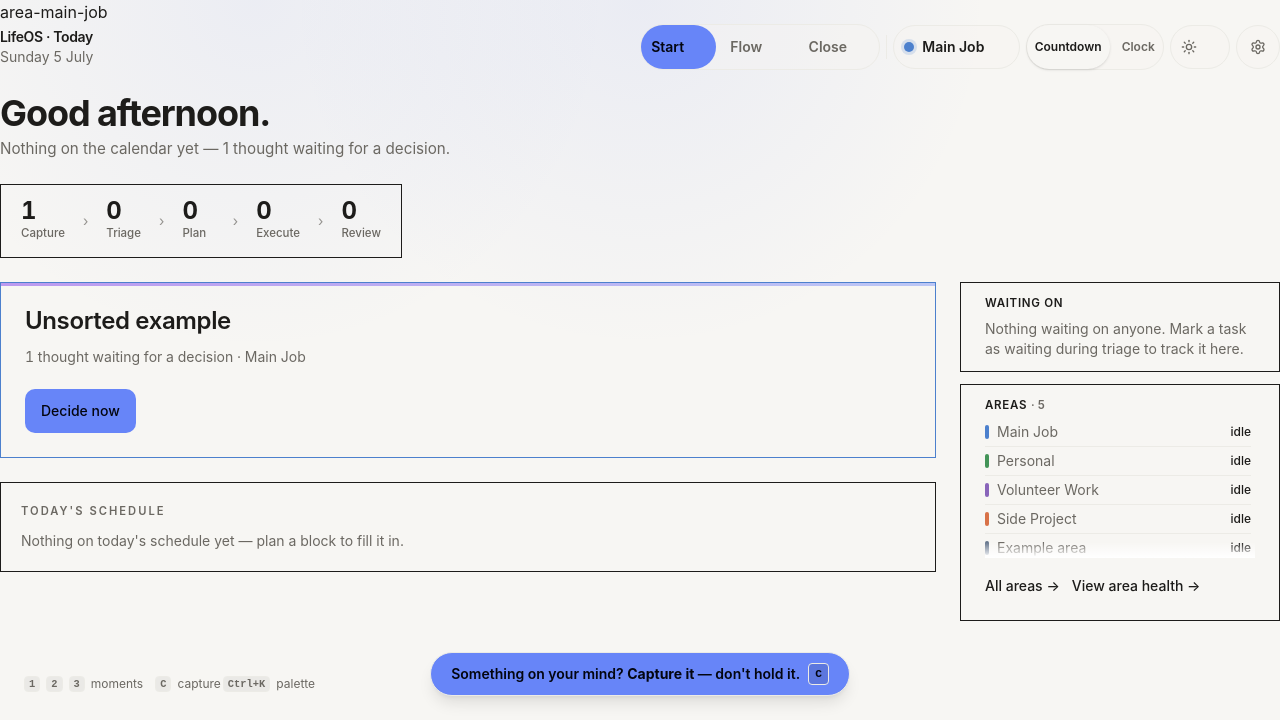
Capture destination and return path › opens the counted capture in Triage instead of a new composer
Check: the text with test id "pipeline-overview-count-capture" reads "1", box [21,196,36,225]
Click the button with test id "pipeline-overview-stage-capture".
click(43, 221)  # box [5,189,81,253]
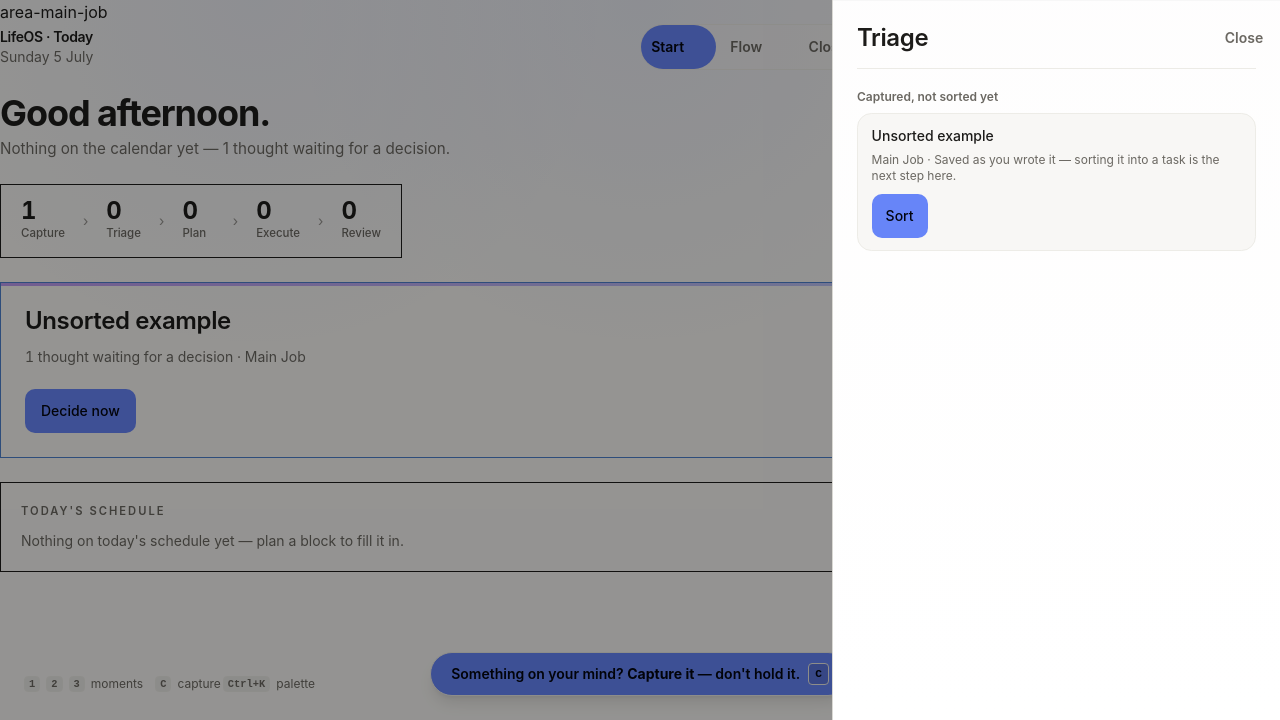
Check: the dialog "Triage" is shown, box [832,0,1279,719]
Check: the element with test id "triage-sheet-captures" shows "Unsorted example", box [872,127,994,144]
